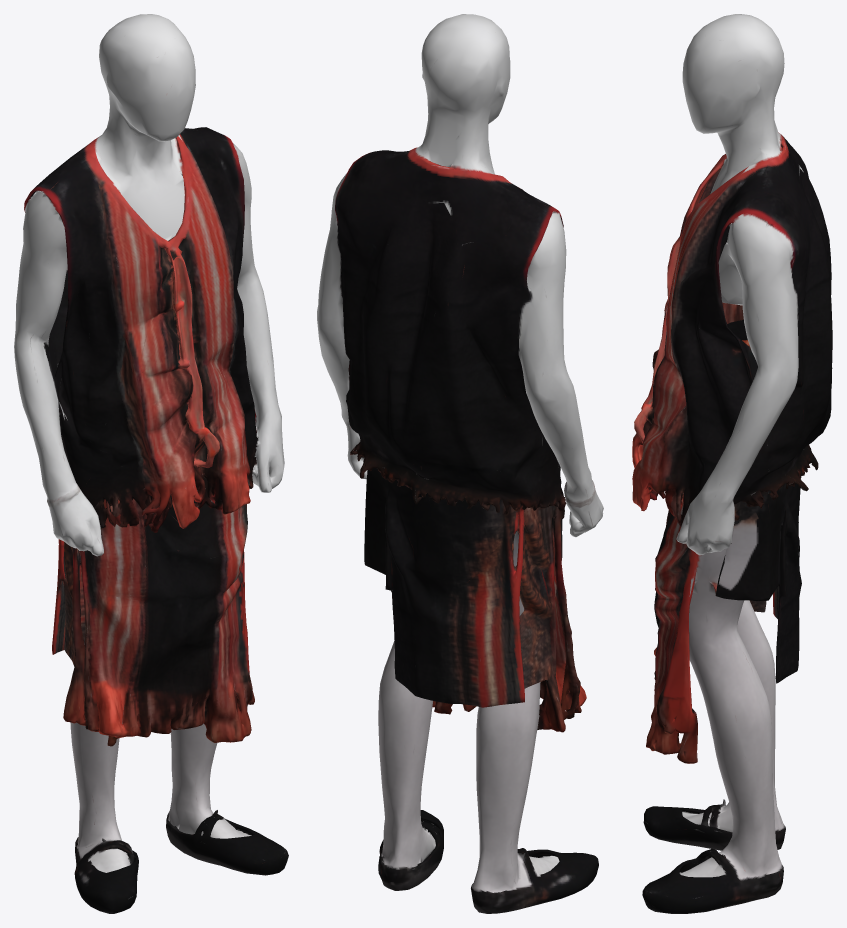
File: Gie_trieng_nam_00001.glb
3 renders of one model, left to right at view 1: azimuth 30°, elevation 25°; view 2: azimuth 150°, elevation 25°; view 3: azimuth 270°, elevation 25°, orthographic. The views are drawn at different scales.
Size of the model in its own units: 0.2674 by 0.8802 by 0.1887.
Materials: 1 (1 with a texture image).
